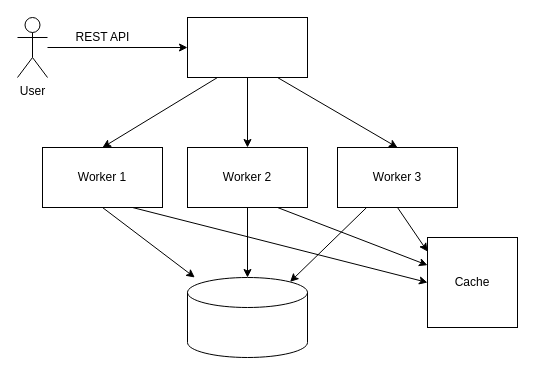
Some shapes in this 535 by 375 pixel diagram are drawn without their labels. The shapes that lost their labels are listed below. From the top down, each one's centre as x and y in pixels, then its label:
At pixel 247 47: "Load Balancer".
At pixel 247 317: "Database".
